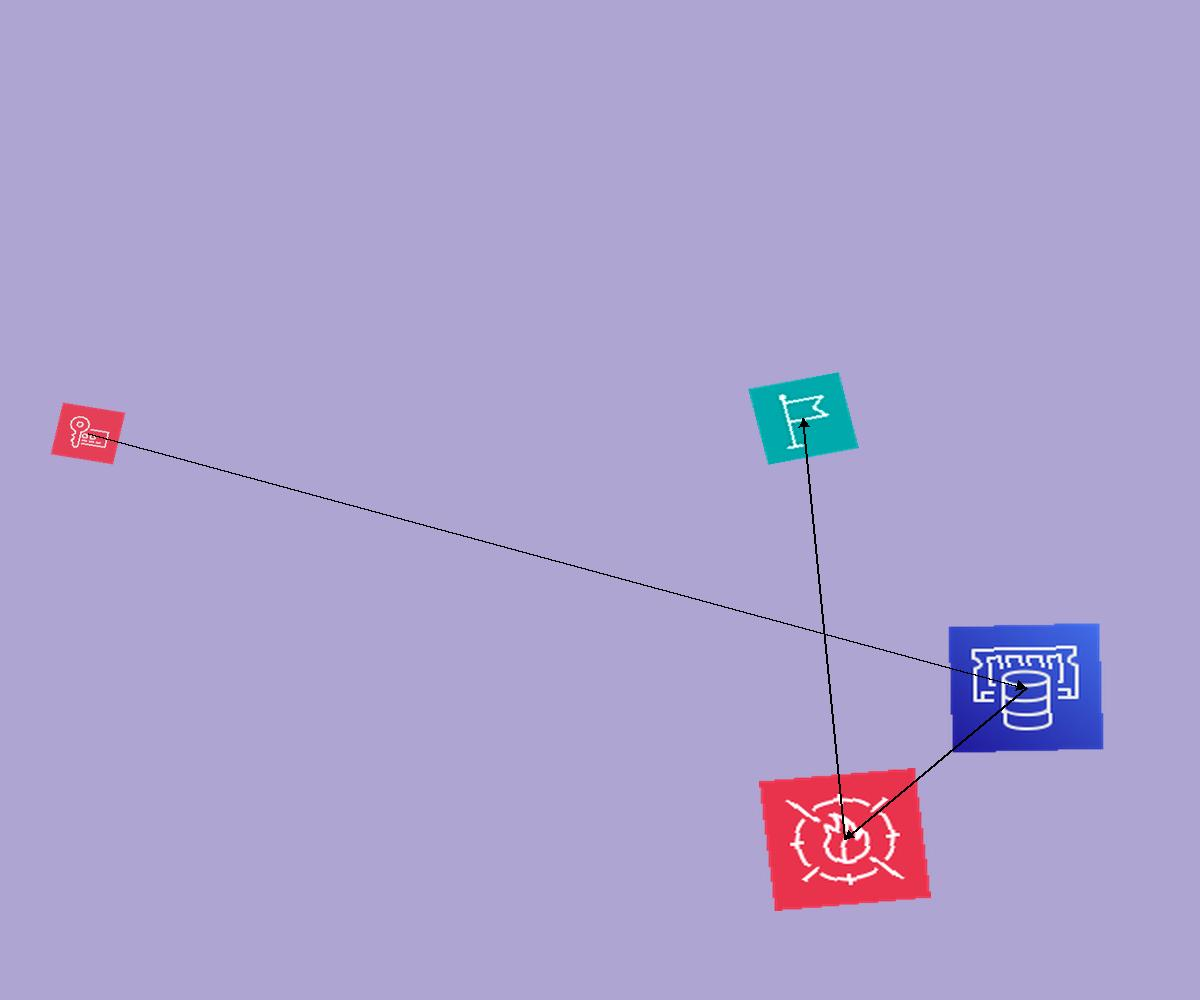AWS-ElastiCache: (947, 622, 1105, 754)
AWS-Key-Management-Service: (50, 402, 126, 465)
AWS-Region: (748, 372, 859, 465)
AWS-WAF: (759, 768, 931, 911)
